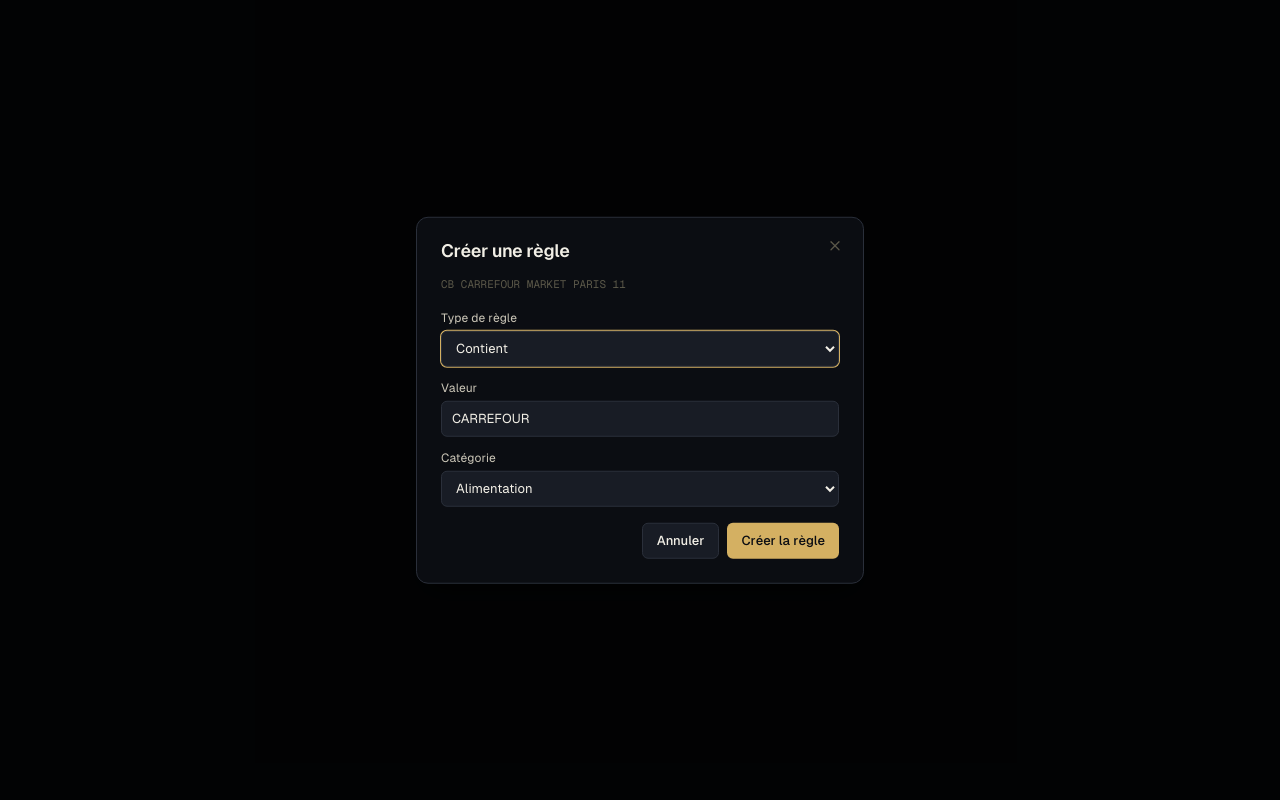
Test case: RuleDialog › shows an inline error on invalid_rule and stays open
The image size is (1280, 800).
Click the button "Créer la règle".
click(783, 540)  # box [727, 522, 839, 558]
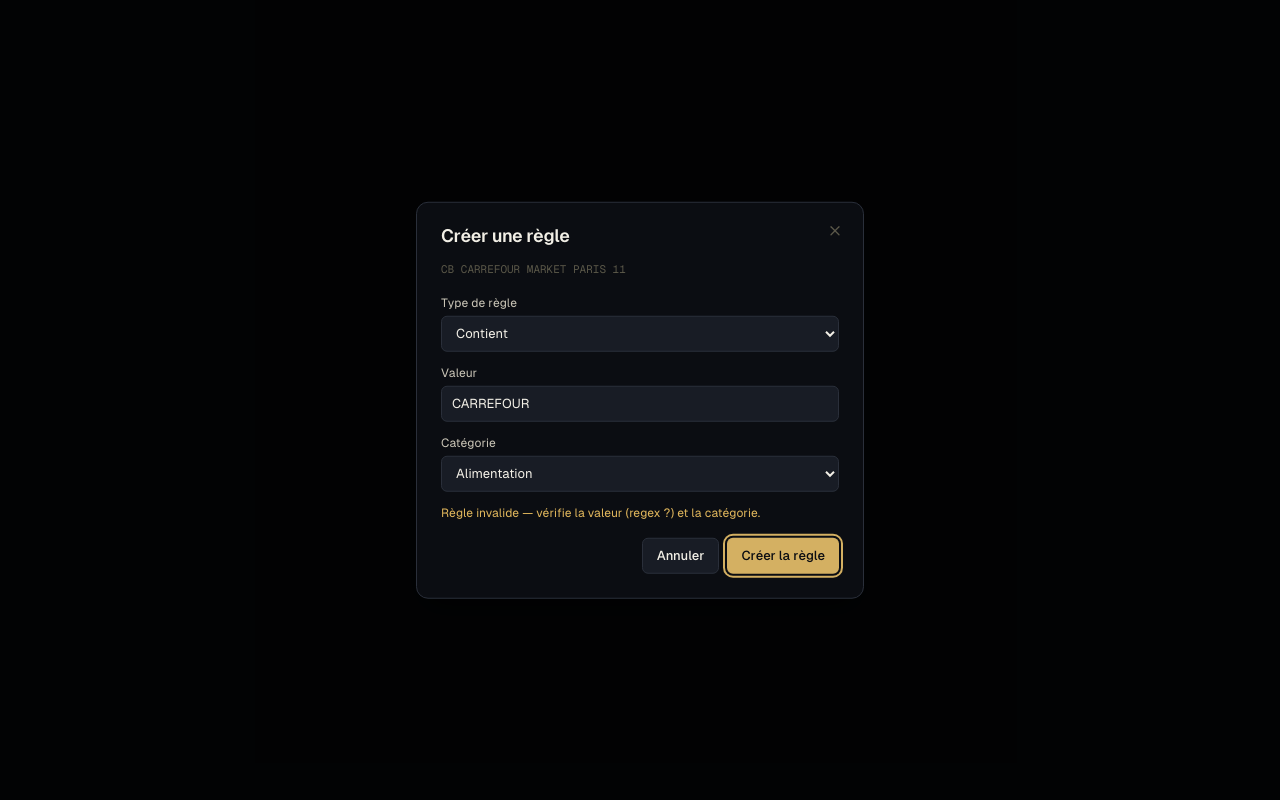
Expected: the text "Règle invalide" is shown, [441, 505, 760, 519]
